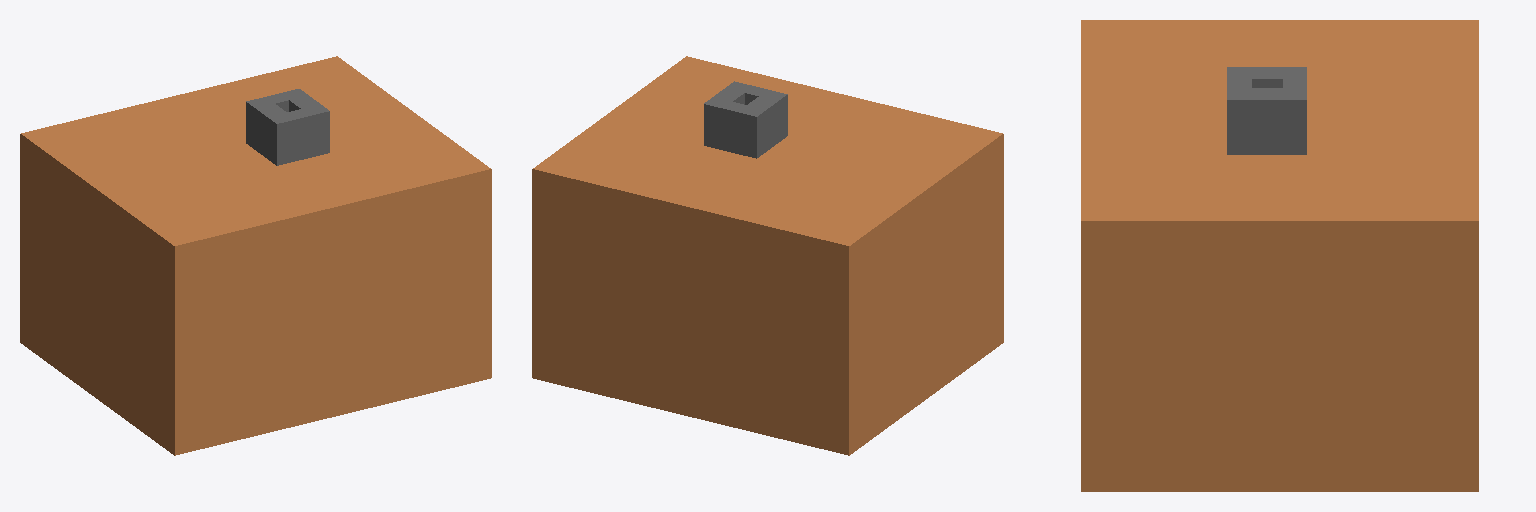
URDF robot description (peg_in_hole_tolerances_scenes_scene_0098_tol03):
<?xml version="1.0"?>
<robot name="peg_in_hole_tolerances_scenes_scene_0098_tol03">
  <material name="wood"><color rgba="0.82 0.56 0.35 1.0"/></material>
  <material name="hole_grey"><color rgba="0.4706 0.4706 0.4706 1.0"/></material>
  <link name="box">
    <visual>
      <origin xyz="0.000000 0.000000 0.000000" rpy="0 0 0"/>
      <geometry><box size="0.475000 0.400000 0.300000"/></geometry>
      <material name="wood"/>
    </visual>
    <collision>
      <origin xyz="0.000000 0.000000 0.000000" rpy="0 0 0"/>
      <geometry><box size="0.475000 0.400000 0.300000"/></geometry>
    </collision>
    <visual>
      <origin xyz="0.040828 -0.012804 0.155000" rpy="0 0 0"/>
      <geometry><box size="0.080000 0.080000 0.010000"/></geometry>
      <material name="hole_grey"/>
    </visual>
    <collision>
      <origin xyz="0.040828 -0.012804 0.155000" rpy="0 0 0"/>
      <geometry><box size="0.080000 0.080000 0.010000"/></geometry>
    </collision>
    <visual>
      <origin xyz="0.066110 -0.012804 0.185000" rpy="0 0 0"/>
      <geometry><box size="0.029435 0.080000 0.050000"/></geometry>
      <material name="hole_grey"/>
    </visual>
    <collision>
      <origin xyz="0.066110 -0.012804 0.185000" rpy="0 0 0"/>
      <geometry><box size="0.029435 0.080000 0.050000"/></geometry>
    </collision>
    <visual>
      <origin xyz="0.015545 -0.012804 0.185000" rpy="0 0 0"/>
      <geometry><box size="0.029435 0.080000 0.050000"/></geometry>
      <material name="hole_grey"/>
    </visual>
    <collision>
      <origin xyz="0.015545 -0.012804 0.185000" rpy="0 0 0"/>
      <geometry><box size="0.029435 0.080000 0.050000"/></geometry>
    </collision>
    <visual>
      <origin xyz="0.040828 0.014979 0.185000" rpy="0 0 0"/>
      <geometry><box size="0.021129 0.024435 0.050000"/></geometry>
      <material name="hole_grey"/>
    </visual>
    <collision>
      <origin xyz="0.040828 0.014979 0.185000" rpy="0 0 0"/>
      <geometry><box size="0.021129 0.024435 0.050000"/></geometry>
    </collision>
    <visual>
      <origin xyz="0.040828 -0.040586 0.185000" rpy="0 0 0"/>
      <geometry><box size="0.021129 0.024435 0.050000"/></geometry>
      <material name="hole_grey"/>
    </visual>
    <collision>
      <origin xyz="0.040828 -0.040586 0.185000" rpy="0 0 0"/>
      <geometry><box size="0.021129 0.024435 0.050000"/></geometry>
    </collision>
    <inertial>
      <mass value="500"/>
      <friction value="1.0"/>
      <inertia ixx="1000.0" ixy="0.0" ixz="0.0" iyy="1000.0" iyz="0.0" izz="1000.0"/>
    </inertial>
  </link>
</robot>

--- Render facts (derived) ---
The picture shows the robot from 3 angles, left to right: view 1: azimuth 30°, elevation 25°; view 2: azimuth 150°, elevation 25°; view 3: azimuth 270°, elevation 25°; orthographic projection.
Model peg_in_hole_tolerances_scenes_scene_0098_tol03 with 1 links and 0 joints (none), rooted at box, posed every joint at zero.
Links seen in each view (by area): view 1: box; view 2: box; view 3: box.
Link boxes in pixels (x1,y1,x2,y2): box: [20, 56, 491, 455]; box: [532, 56, 1003, 455]; box: [1081, 20, 1478, 491].
Bounding box of the posed robot: 0.475 × 0.4 × 0.36 m (x, y, z).
Geometry: primitives only (box / cylinder / sphere), no mesh files.
